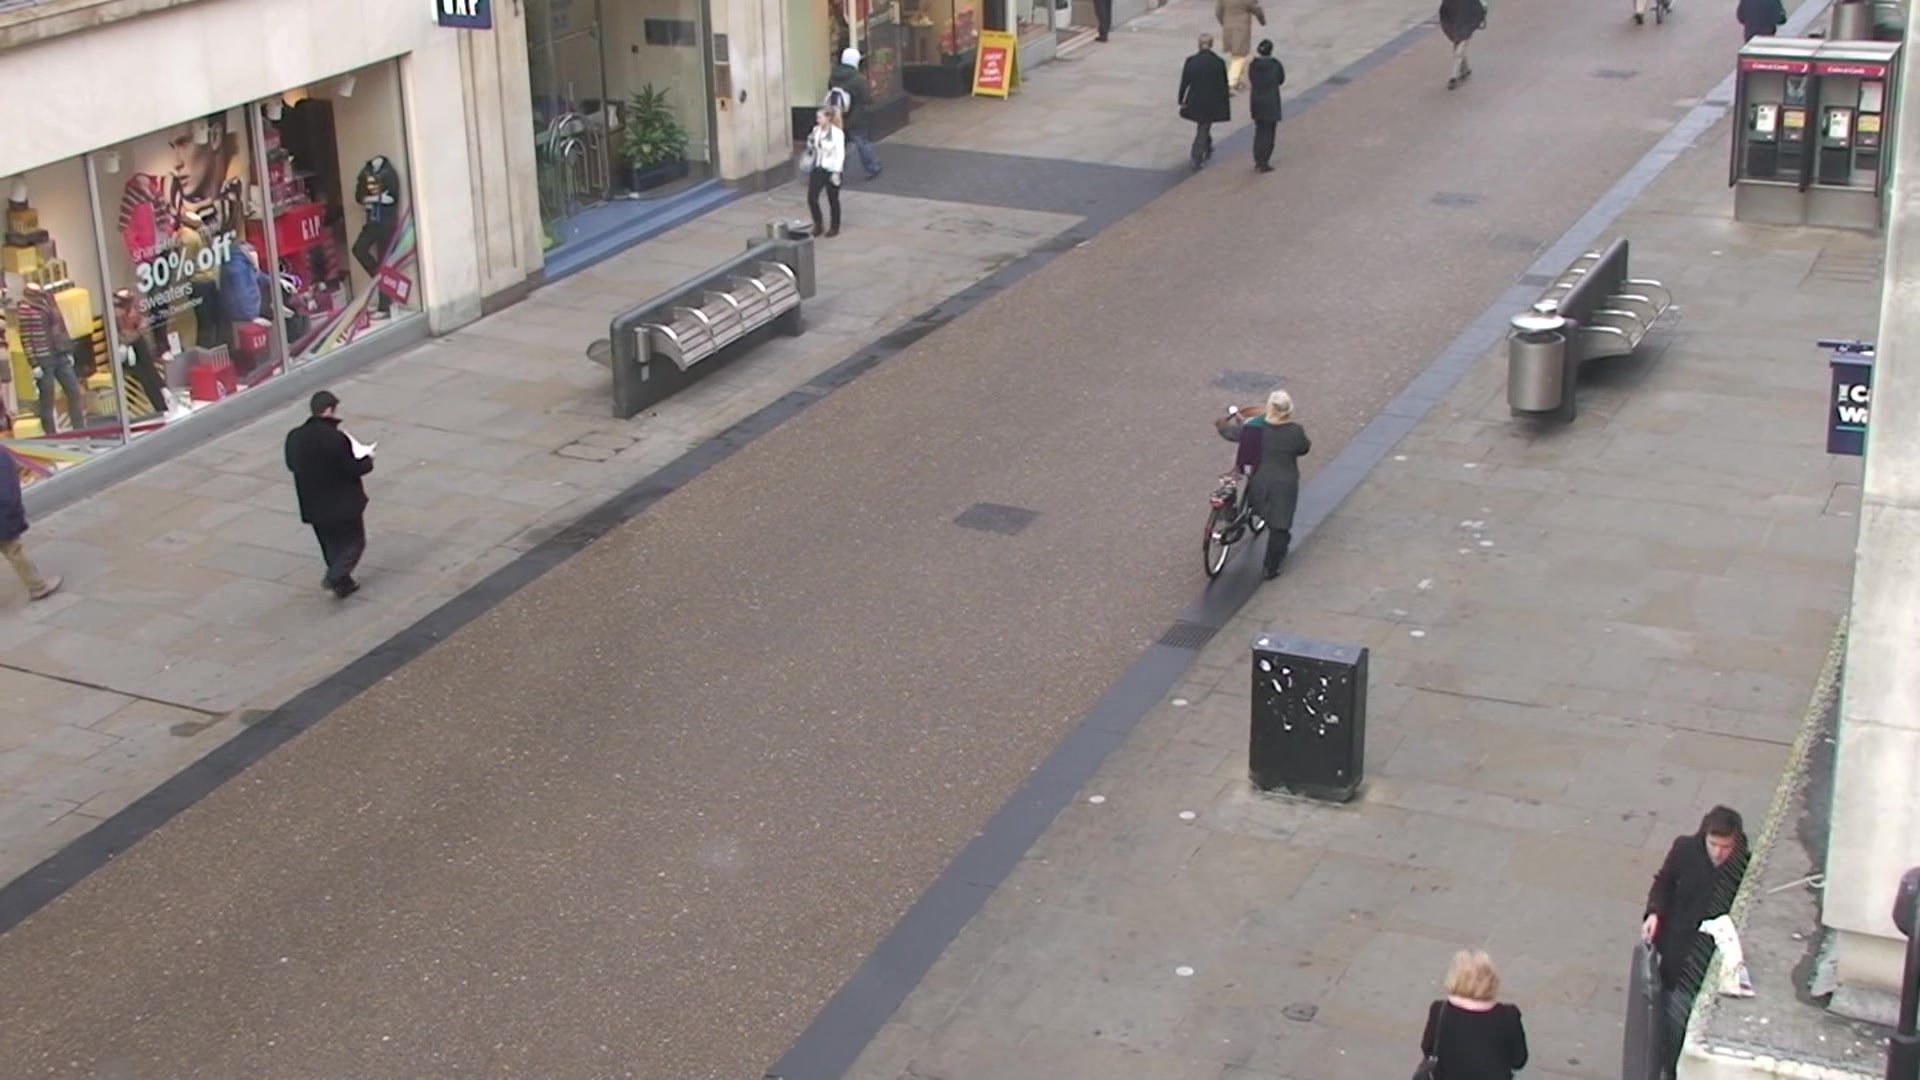person: (282, 392, 378, 599), (1220, 390, 1311, 583), (1178, 34, 1230, 171), (801, 106, 847, 238), (1248, 39, 1286, 176)
